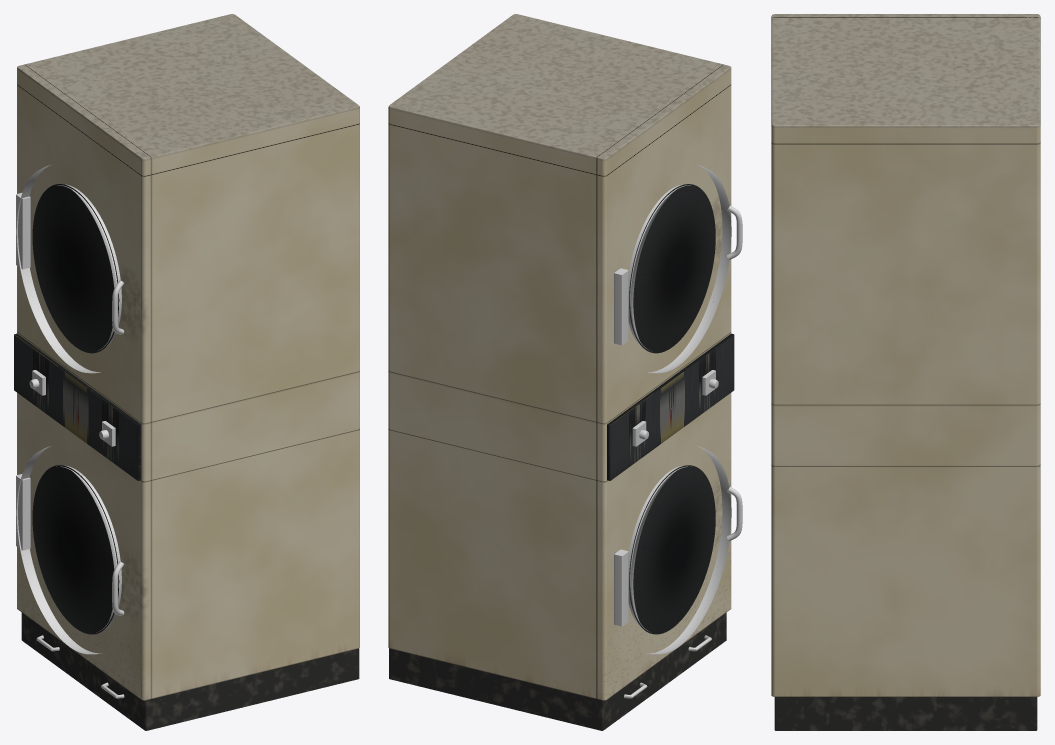
Rendered from SM_StackDryer.glb.
The picture shows the model from 3 angles, left to right: view 1: azimuth 30°, elevation 25°; view 2: azimuth 150°, elevation 25°; view 3: azimuth 270°, elevation 25°; orthographic projection. The views are drawn at different scales.
Visible parts, largest first — view 1: SM_StackDryer; view 2: SM_StackDryer; view 3: SM_StackDryer.
Part boxes in pixels (x1,y1,x2,y2): SM_StackDryer: (14,14,359,730); SM_StackDryer: (388,14,742,730); SM_StackDryer: (771,14,1040,730).
Bounding box in the file's own units: 0.8511 × 1.96 × 0.79.
Materials: 5 (5 with a texture image).
